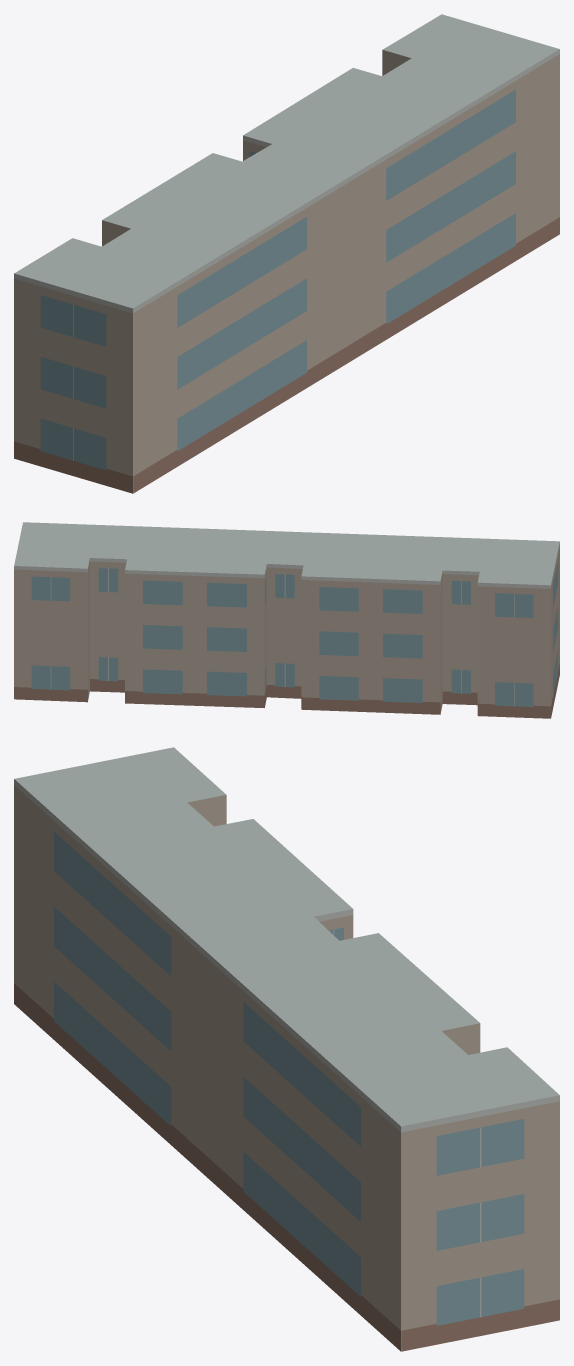
File: survey-upis-32963783.glb
3 renders of one model, top to bottom at view 1: azimuth 30°, elevation 25°; view 2: azimuth 150°, elevation 25°; view 3: azimuth 270°, elevation 25°, orthographic. The views are drawn at different scales.
Visible parts, largest first — view 1: survey-upis-32963783.tmp; view 2: survey-upis-32963783.tmp; view 3: survey-upis-32963783.tmp.
Boxes of the visible parts, x1,y1,x2,y2 form: survey-upis-32963783.tmp: (14, 14, 559, 493); survey-upis-32963783.tmp: (14, 522, 559, 718); survey-upis-32963783.tmp: (14, 747, 559, 1351).
Bounding box in the file's own units: 33.07 × 9.15 × 20.11.
